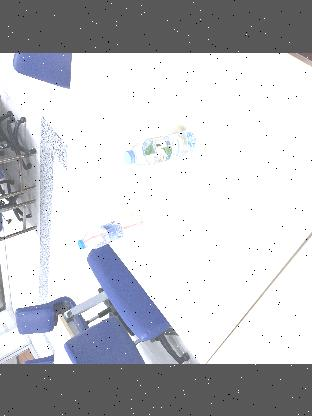Plastic Bottle: (121, 126, 198, 166), (76, 210, 144, 250)
